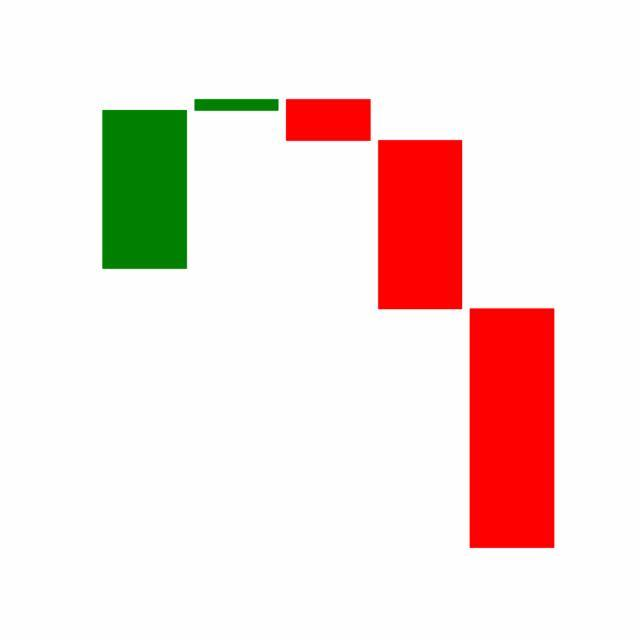Marubozu: (374, 139, 468, 312)
